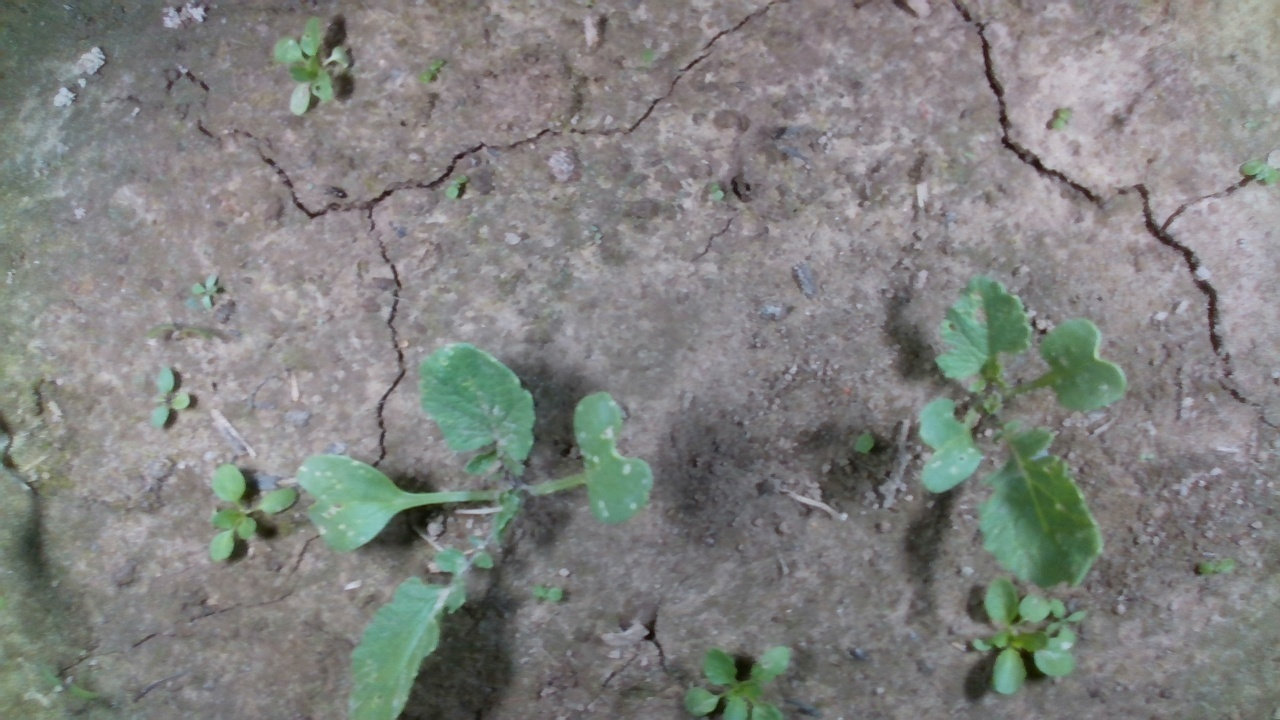weed: (148, 367, 192, 430), (189, 270, 222, 312), (1239, 158, 1279, 186), (442, 170, 470, 201), (528, 582, 564, 602), (1048, 106, 1071, 132)
